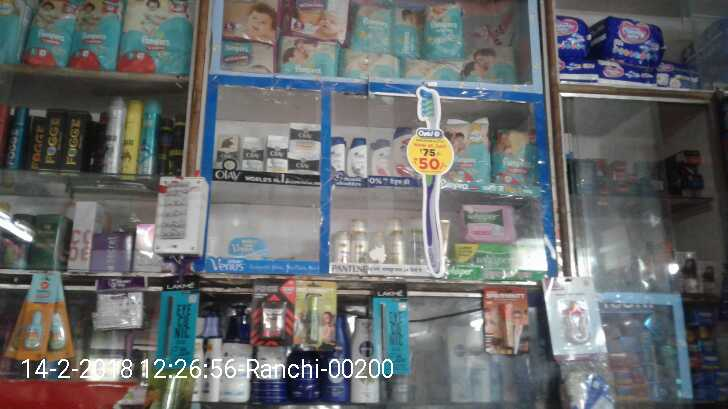venus: (230, 238, 265, 258)
